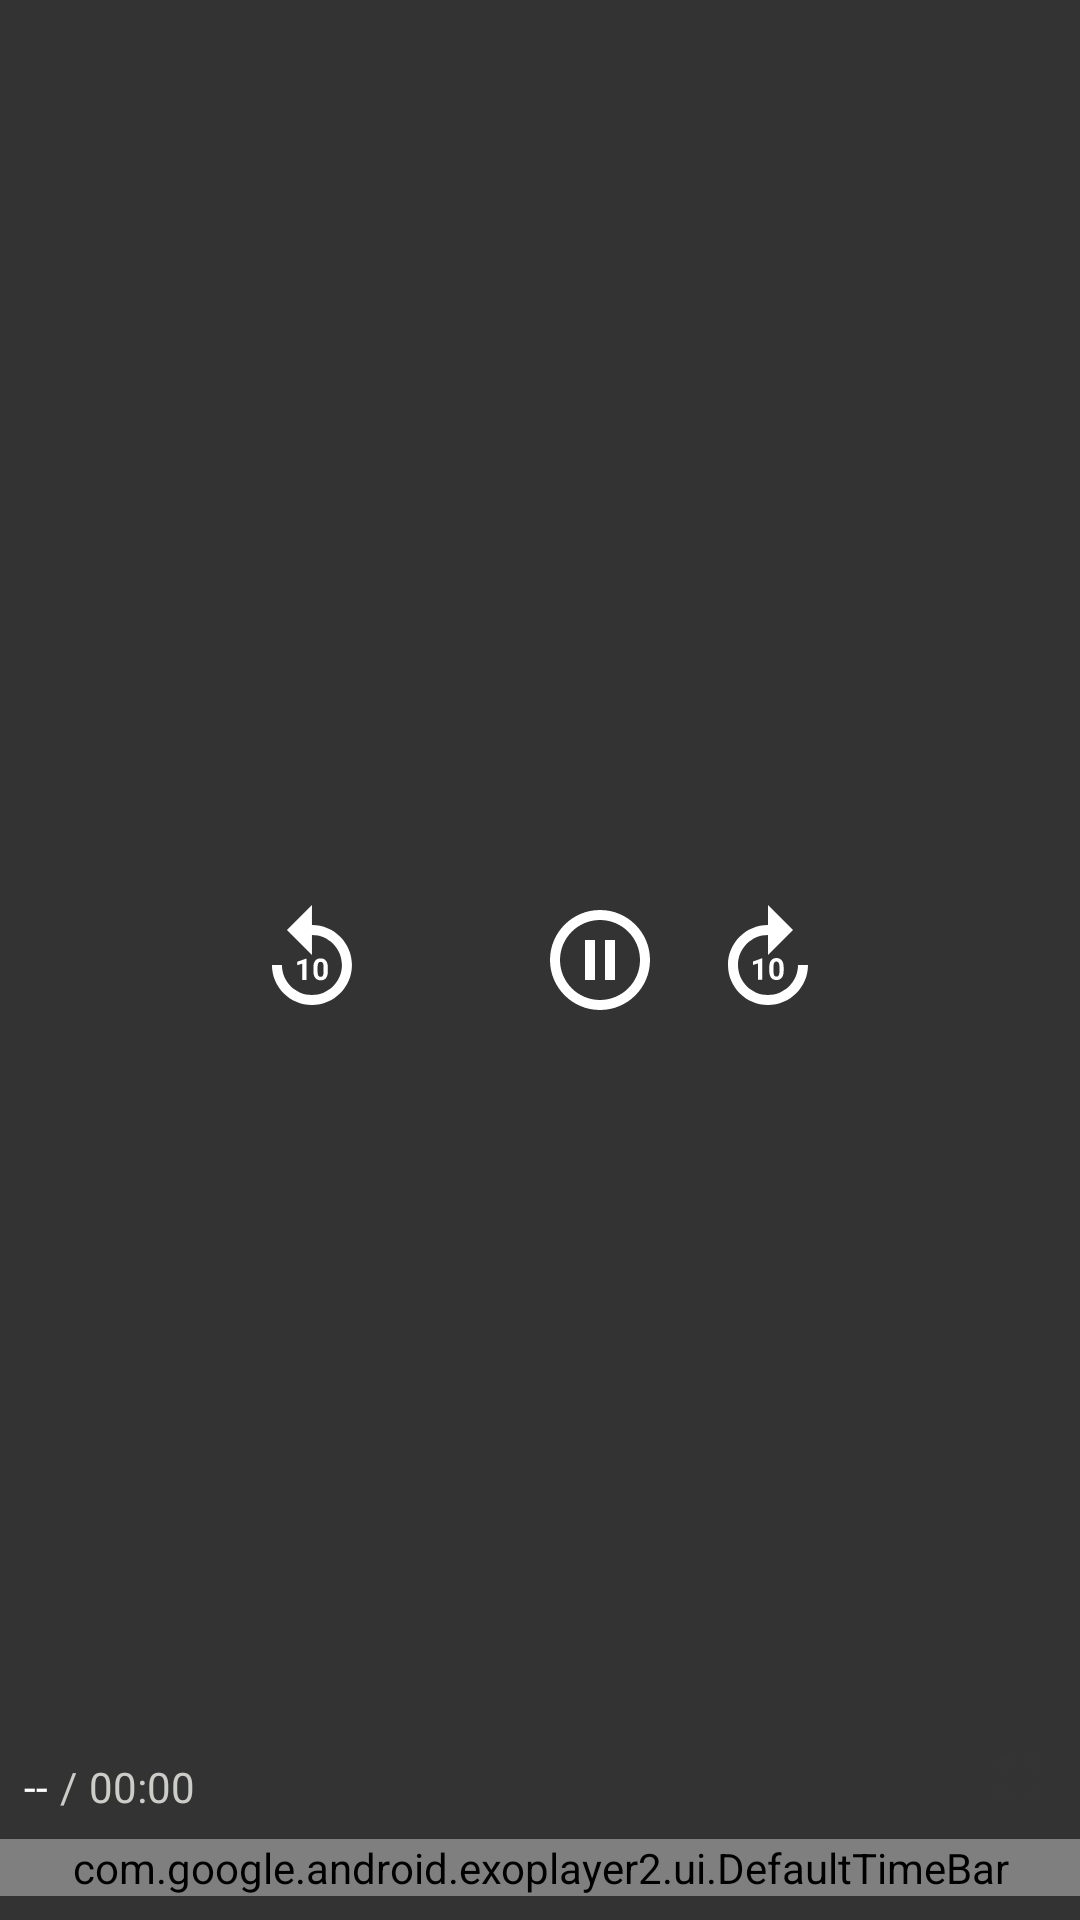

Icons on this 1080*1920 Android screen, each with its box as (x1, y1, x2, y2):
Forward button: (728, 905, 808, 1005)
Pause button: (550, 910, 650, 1010)
Rewind button: (272, 905, 352, 1005)
